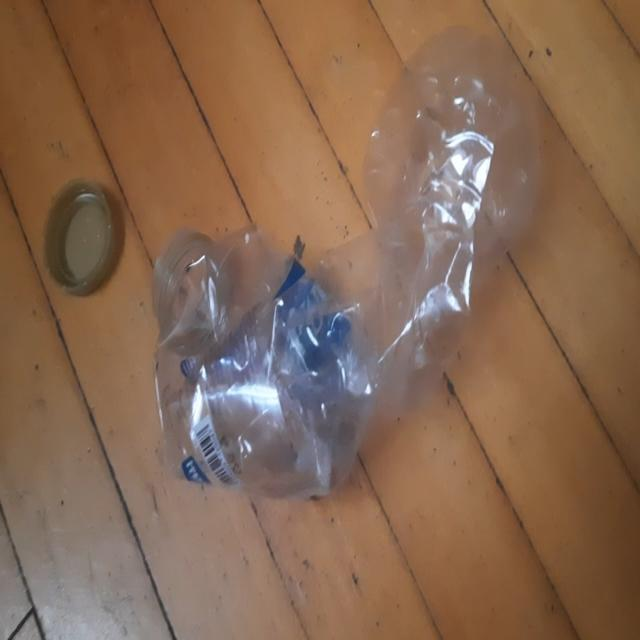Plastic: (153, 24, 541, 500)
